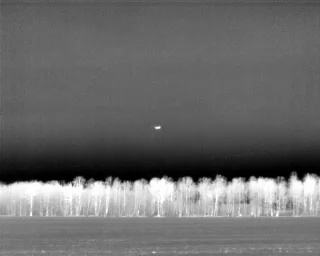DRONE: (152, 121, 165, 134)
